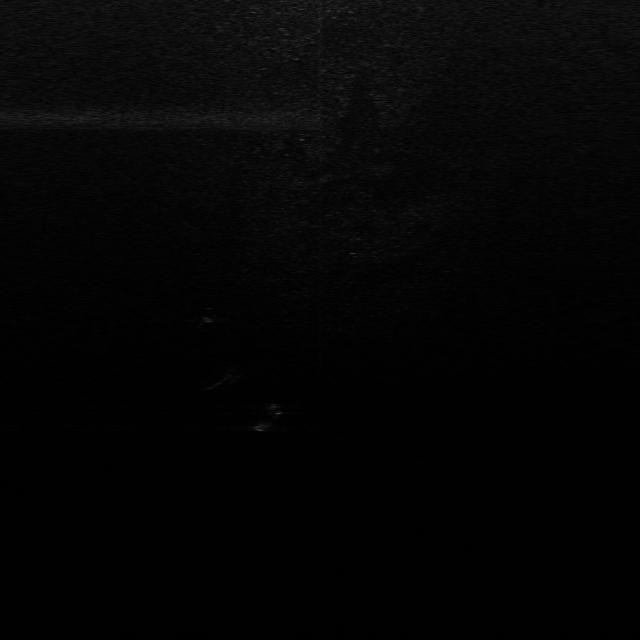ball: (218, 362, 248, 384)
circle cage: (196, 307, 222, 323)
tyre: (247, 402, 286, 432)
